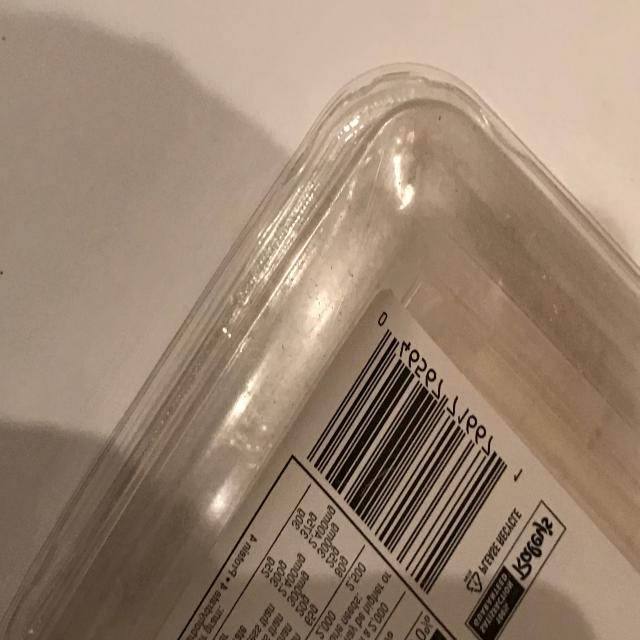plastic: (0, 59, 640, 640)
